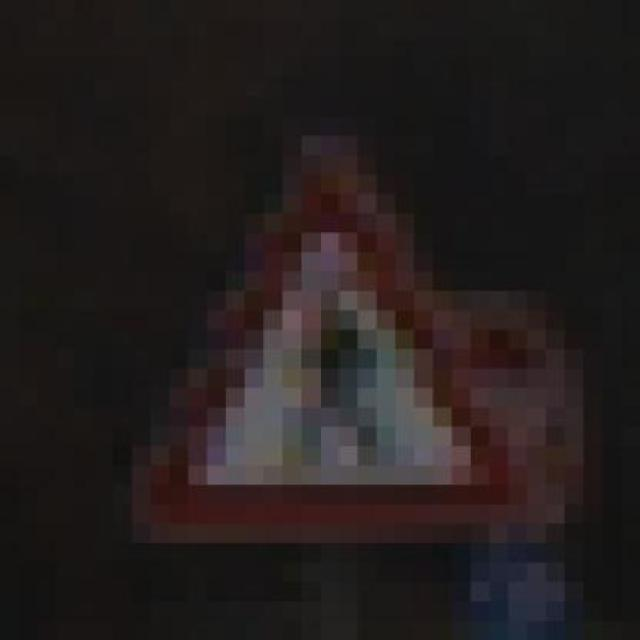Pedestrian Crossing: (94, 135, 546, 563)
